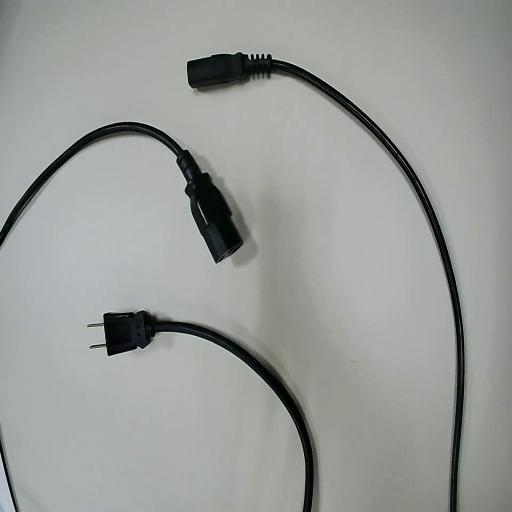wire: (188, 53, 463, 511), (104, 312, 314, 511), (0, 123, 242, 260)
